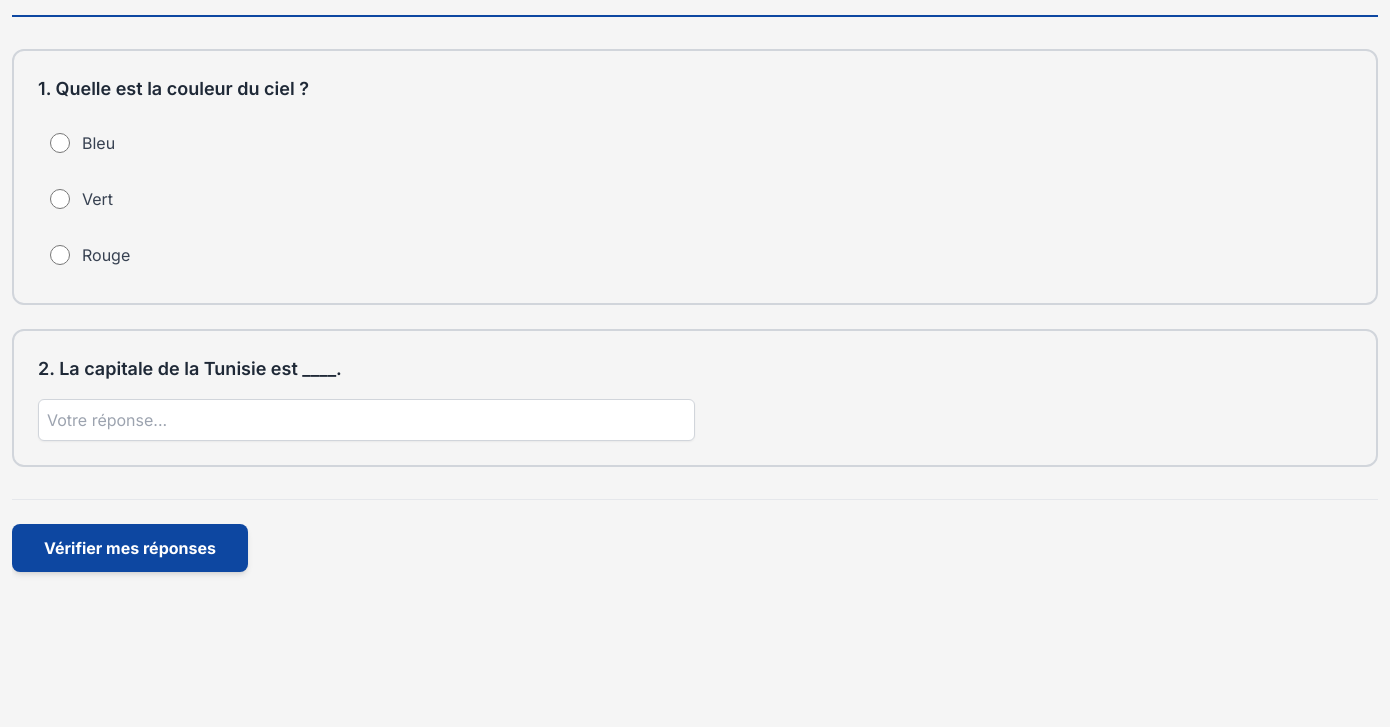
Test: Exercise › réinitialise l'exercice lorsque "Réessayer" est cliqué
The width and height of the screenshot is (1390, 727).
Click the radio button labelled "Bleu". click: (60, 143)
box: [50, 133, 70, 153]
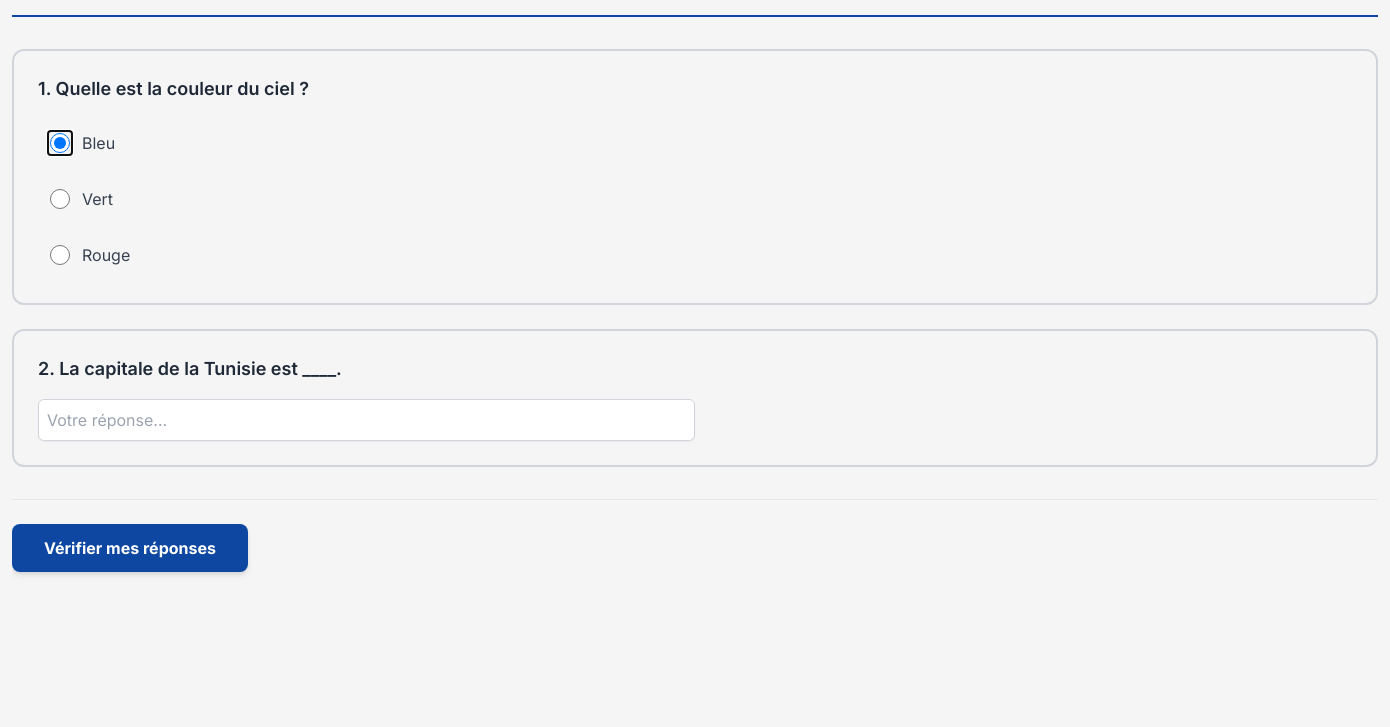
Click the button "Vérifier mes réponses". click: (130, 548)
box: [12, 524, 248, 572]
(page scrolled)
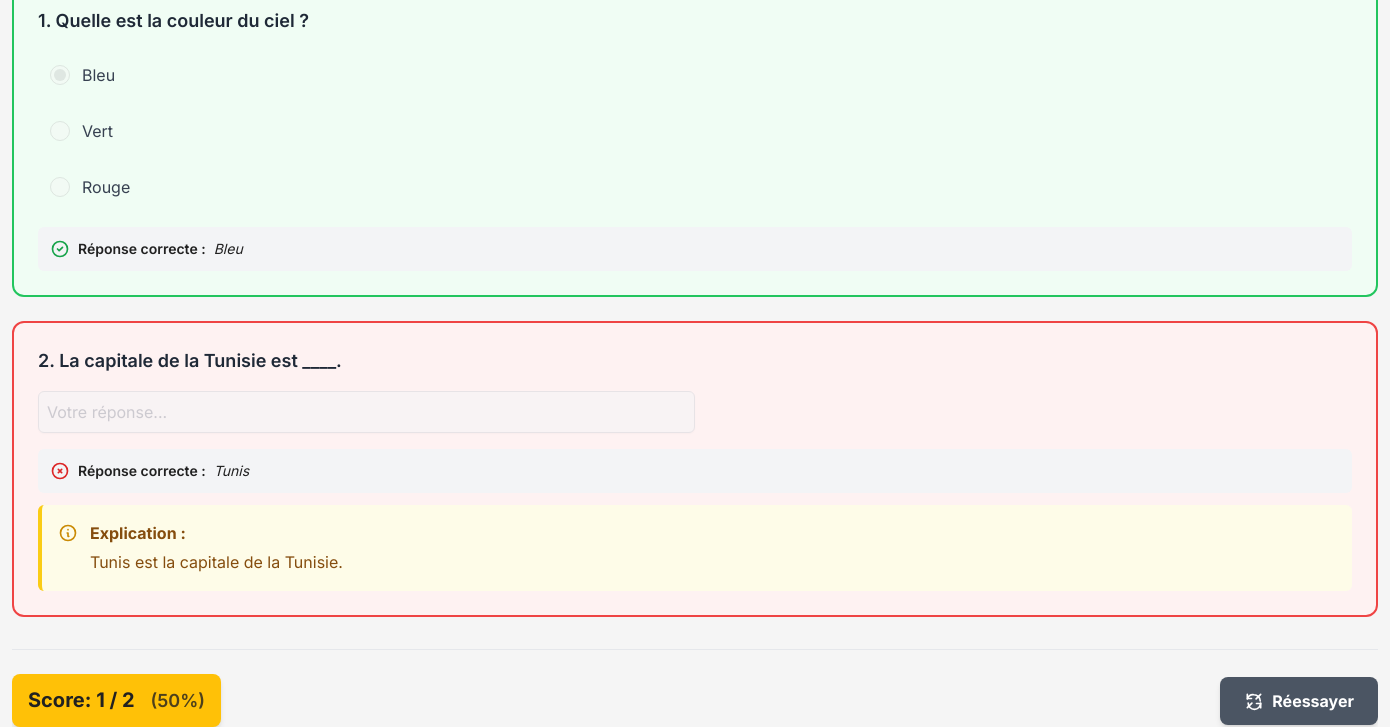
Now the text "Score: 1 / 2" is shown, box [28, 686, 135, 714]
Click the button "Réessayer". click: (1299, 700)
box: [1220, 676, 1378, 724]
(page scrolled)
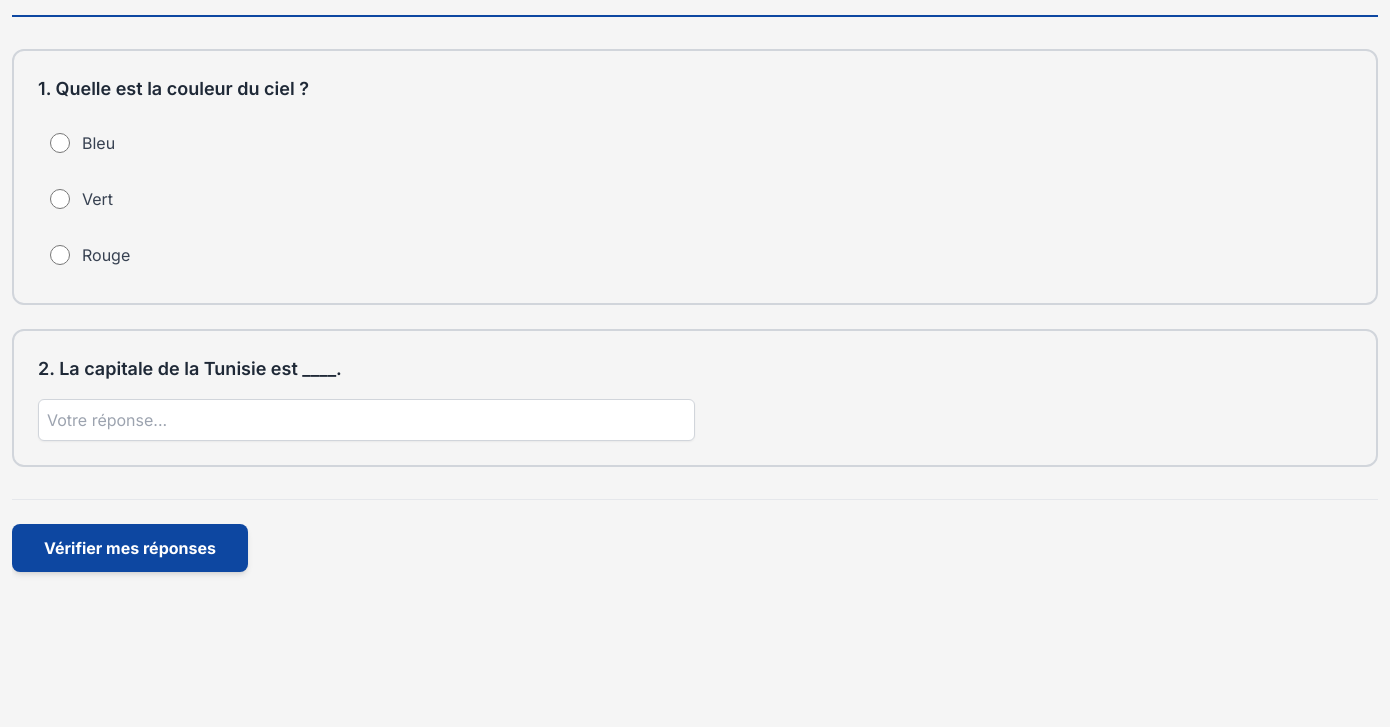
Now the text "Score: 1 / 2" is gone
Now the button "Vérifier mes réponses" is shown, box [12, 524, 248, 572]
Now the radio button labelled "Bleu" is enabled, box [50, 133, 70, 153]
